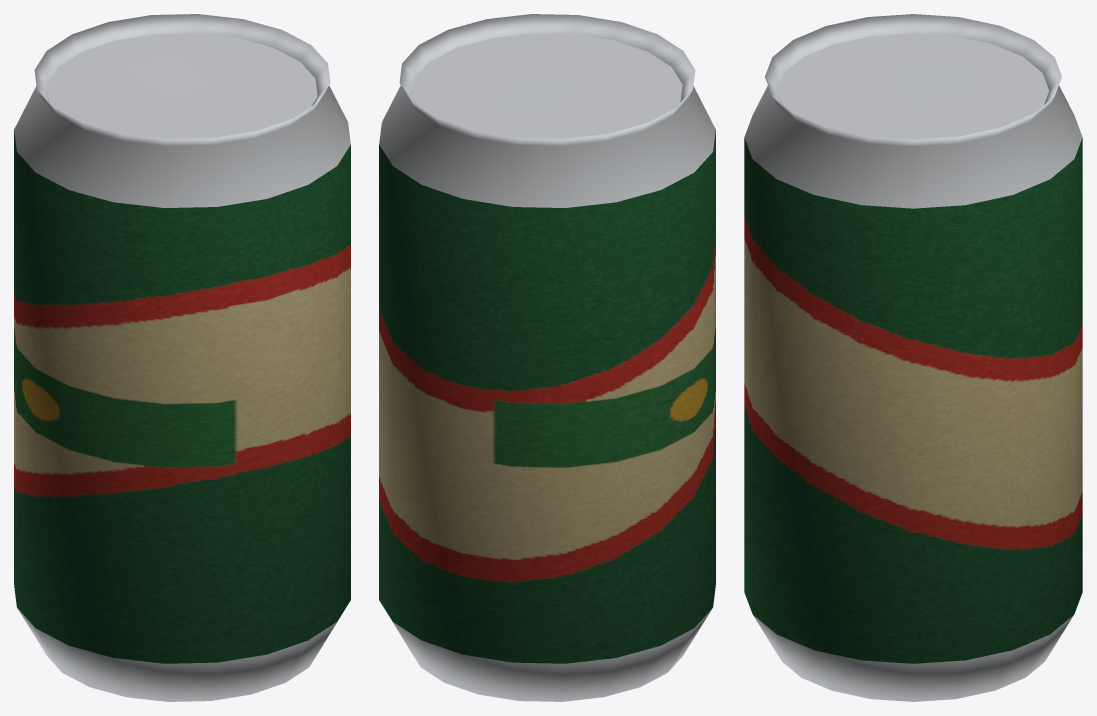
Rendered from can.glb.
The picture shows the model from 3 angles, left to right: view 1: azimuth 30°, elevation 25°; view 2: azimuth 150°, elevation 25°; view 3: azimuth 270°, elevation 25°; orthographic projection.
Parts seen in each view (by area): view 1: Can; view 2: Can; view 3: Can.
Part boxes in pixels (left/top/right/bottom): Can: left=14, top=14, right=350, bottom=701; Can: left=379, top=14, right=715, bottom=701; Can: left=744, top=14, right=1082, bottom=701.
Size of the model in its own units: 0.066 by 0.122 by 0.066.
Materials: 2 (1 with a texture image).
